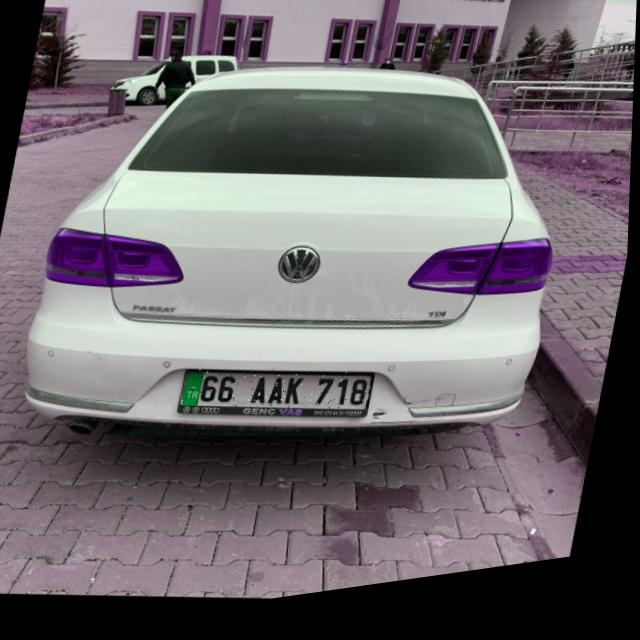license_plate: (182, 354, 379, 442)
